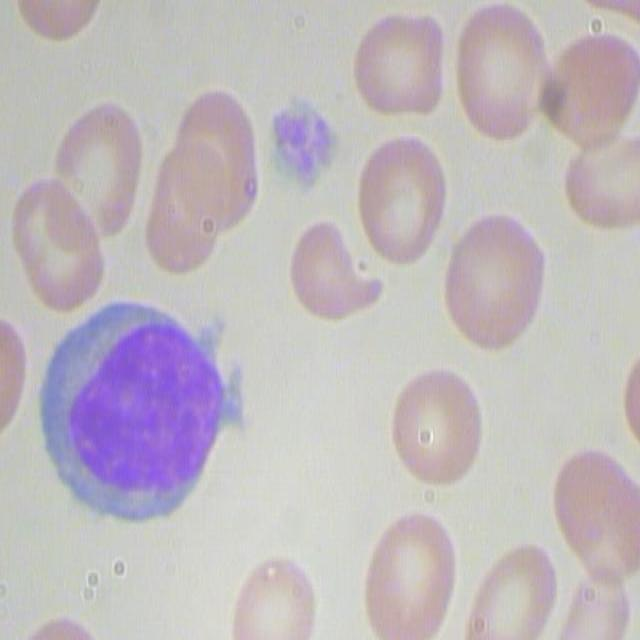RBC: (142, 79, 255, 268), (447, 0, 556, 145), (439, 212, 545, 352), (54, 95, 150, 238), (359, 507, 461, 637), (352, 129, 446, 270), (11, 173, 102, 309), (532, 30, 636, 146), (350, 7, 454, 122), (557, 448, 640, 586), (390, 366, 485, 486), (284, 220, 385, 325), (467, 539, 562, 638), (563, 129, 640, 236), (228, 553, 320, 638), (0, 307, 30, 445), (10, 0, 105, 37)
WBC: (45, 294, 231, 532)
